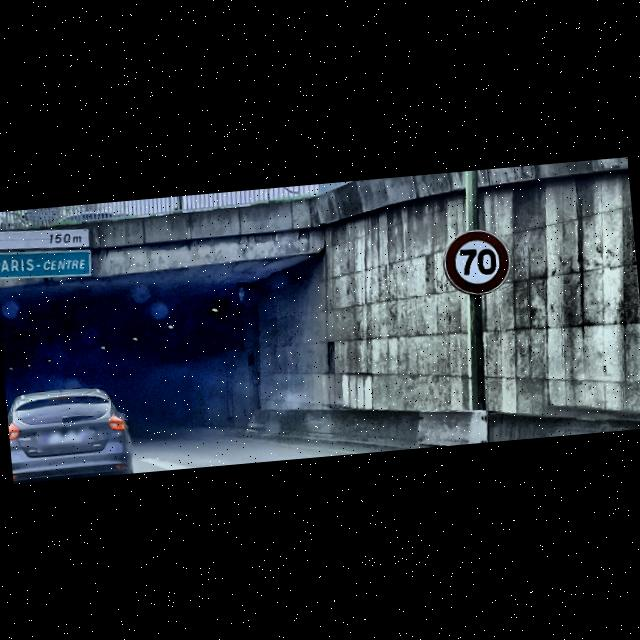speed_70: (439, 228, 512, 298)
